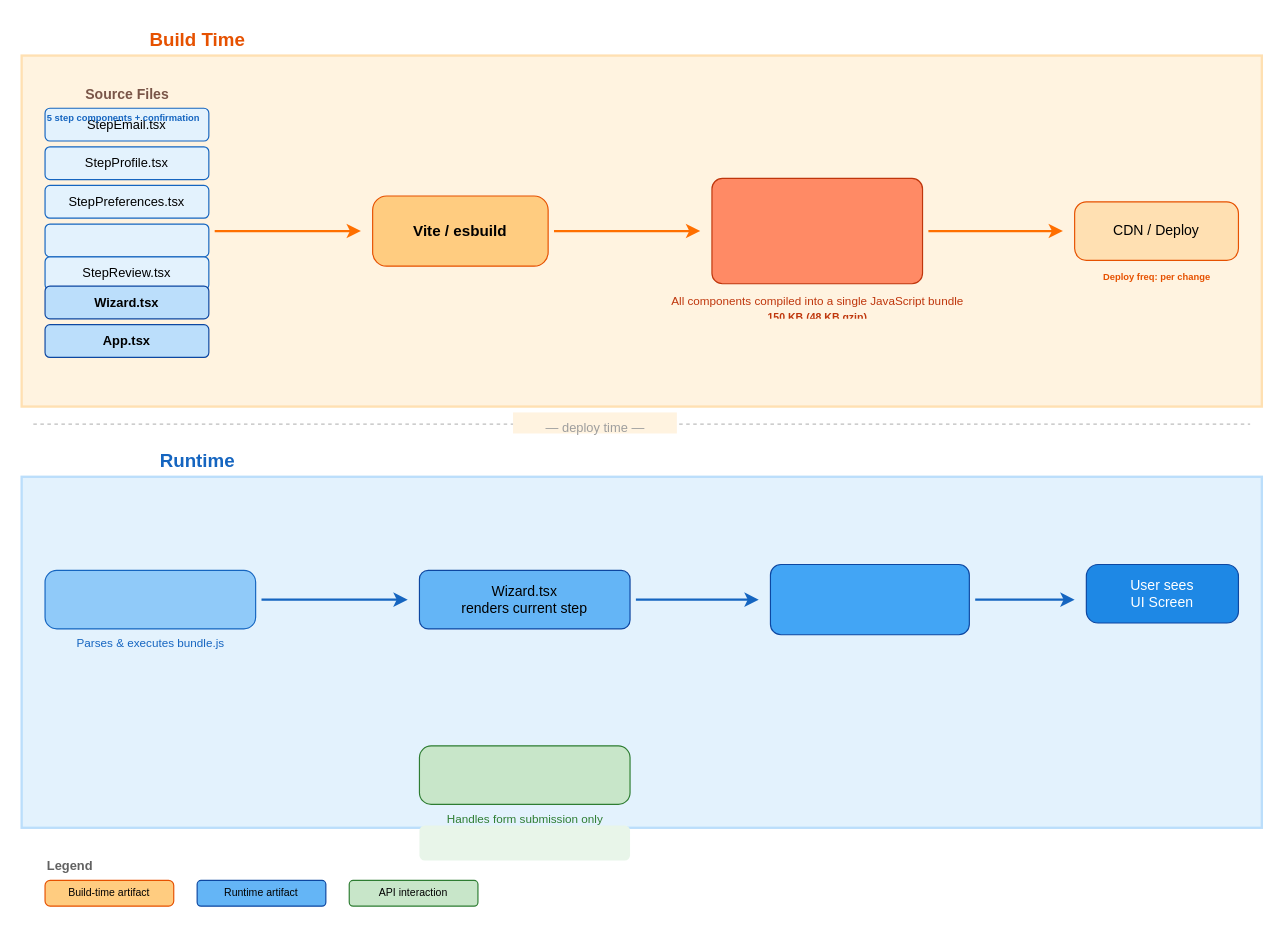
Some shapes in this 1282 by 927 pixel diagram are drawn without their labels. Here are the shapes that lost their labels. From the top down, the centre of each, then its label:
the point at 126,240: StepPlan.tsx
the point at 817,230: bundle.js
the point at 816,328: Grows with each new step component
the point at 150,599: Browser
the point at 869,599: StepEmail.tsx (hardcoded component)
the point at 524,774: API Server
the point at 524,842: ✓ UI components are cached in bundle — app works offline
